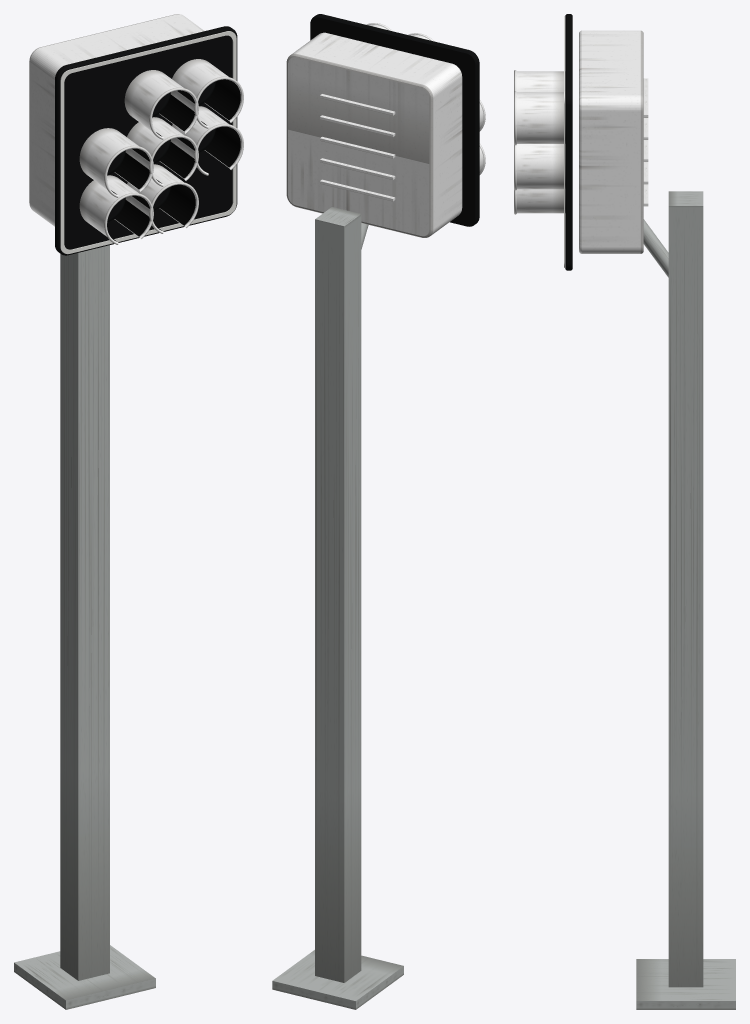
The picture shows the model from 3 angles, left to right: view 1: azimuth 30°, elevation 25°; view 2: azimuth 150°, elevation 25°; view 3: azimuth 270°, elevation 25°; orthographic projection. The views are drawn at different scales.
Parts seen in each view (by area): view 1: jp-rail-relay; view 2: jp-rail-relay; view 3: jp-rail-relay.
Boxes of the visible parts, x1,y1,x2,y2 form: jp-rail-relay: (14, 14, 243, 1009); jp-rail-relay: (272, 14, 485, 1009); jp-rail-relay: (514, 14, 735, 1009).
Bounding box in the file's own units: 0.8 × 4.15 × 0.8902.
Materials: 27 (3 with a texture image).
